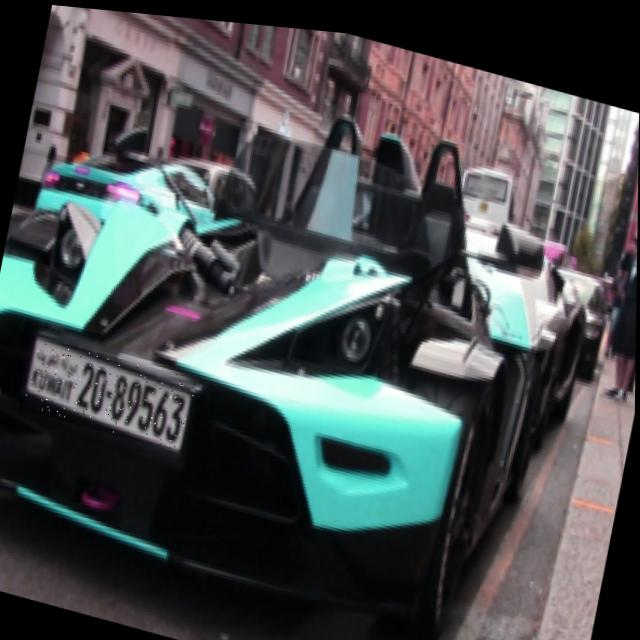license_plate: (19, 333, 198, 450)
